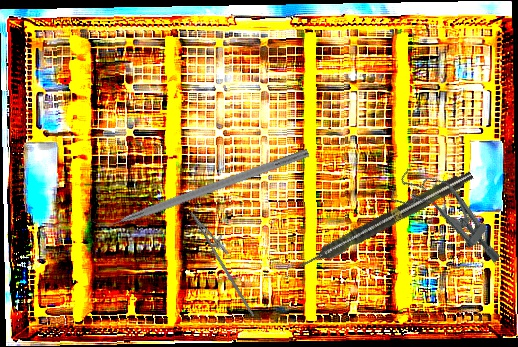Chopper: (87, 136, 310, 236)
Handpiece: (295, 167, 476, 274)
Needle Holder: (178, 205, 274, 318)
Speculum: (386, 158, 517, 272)
